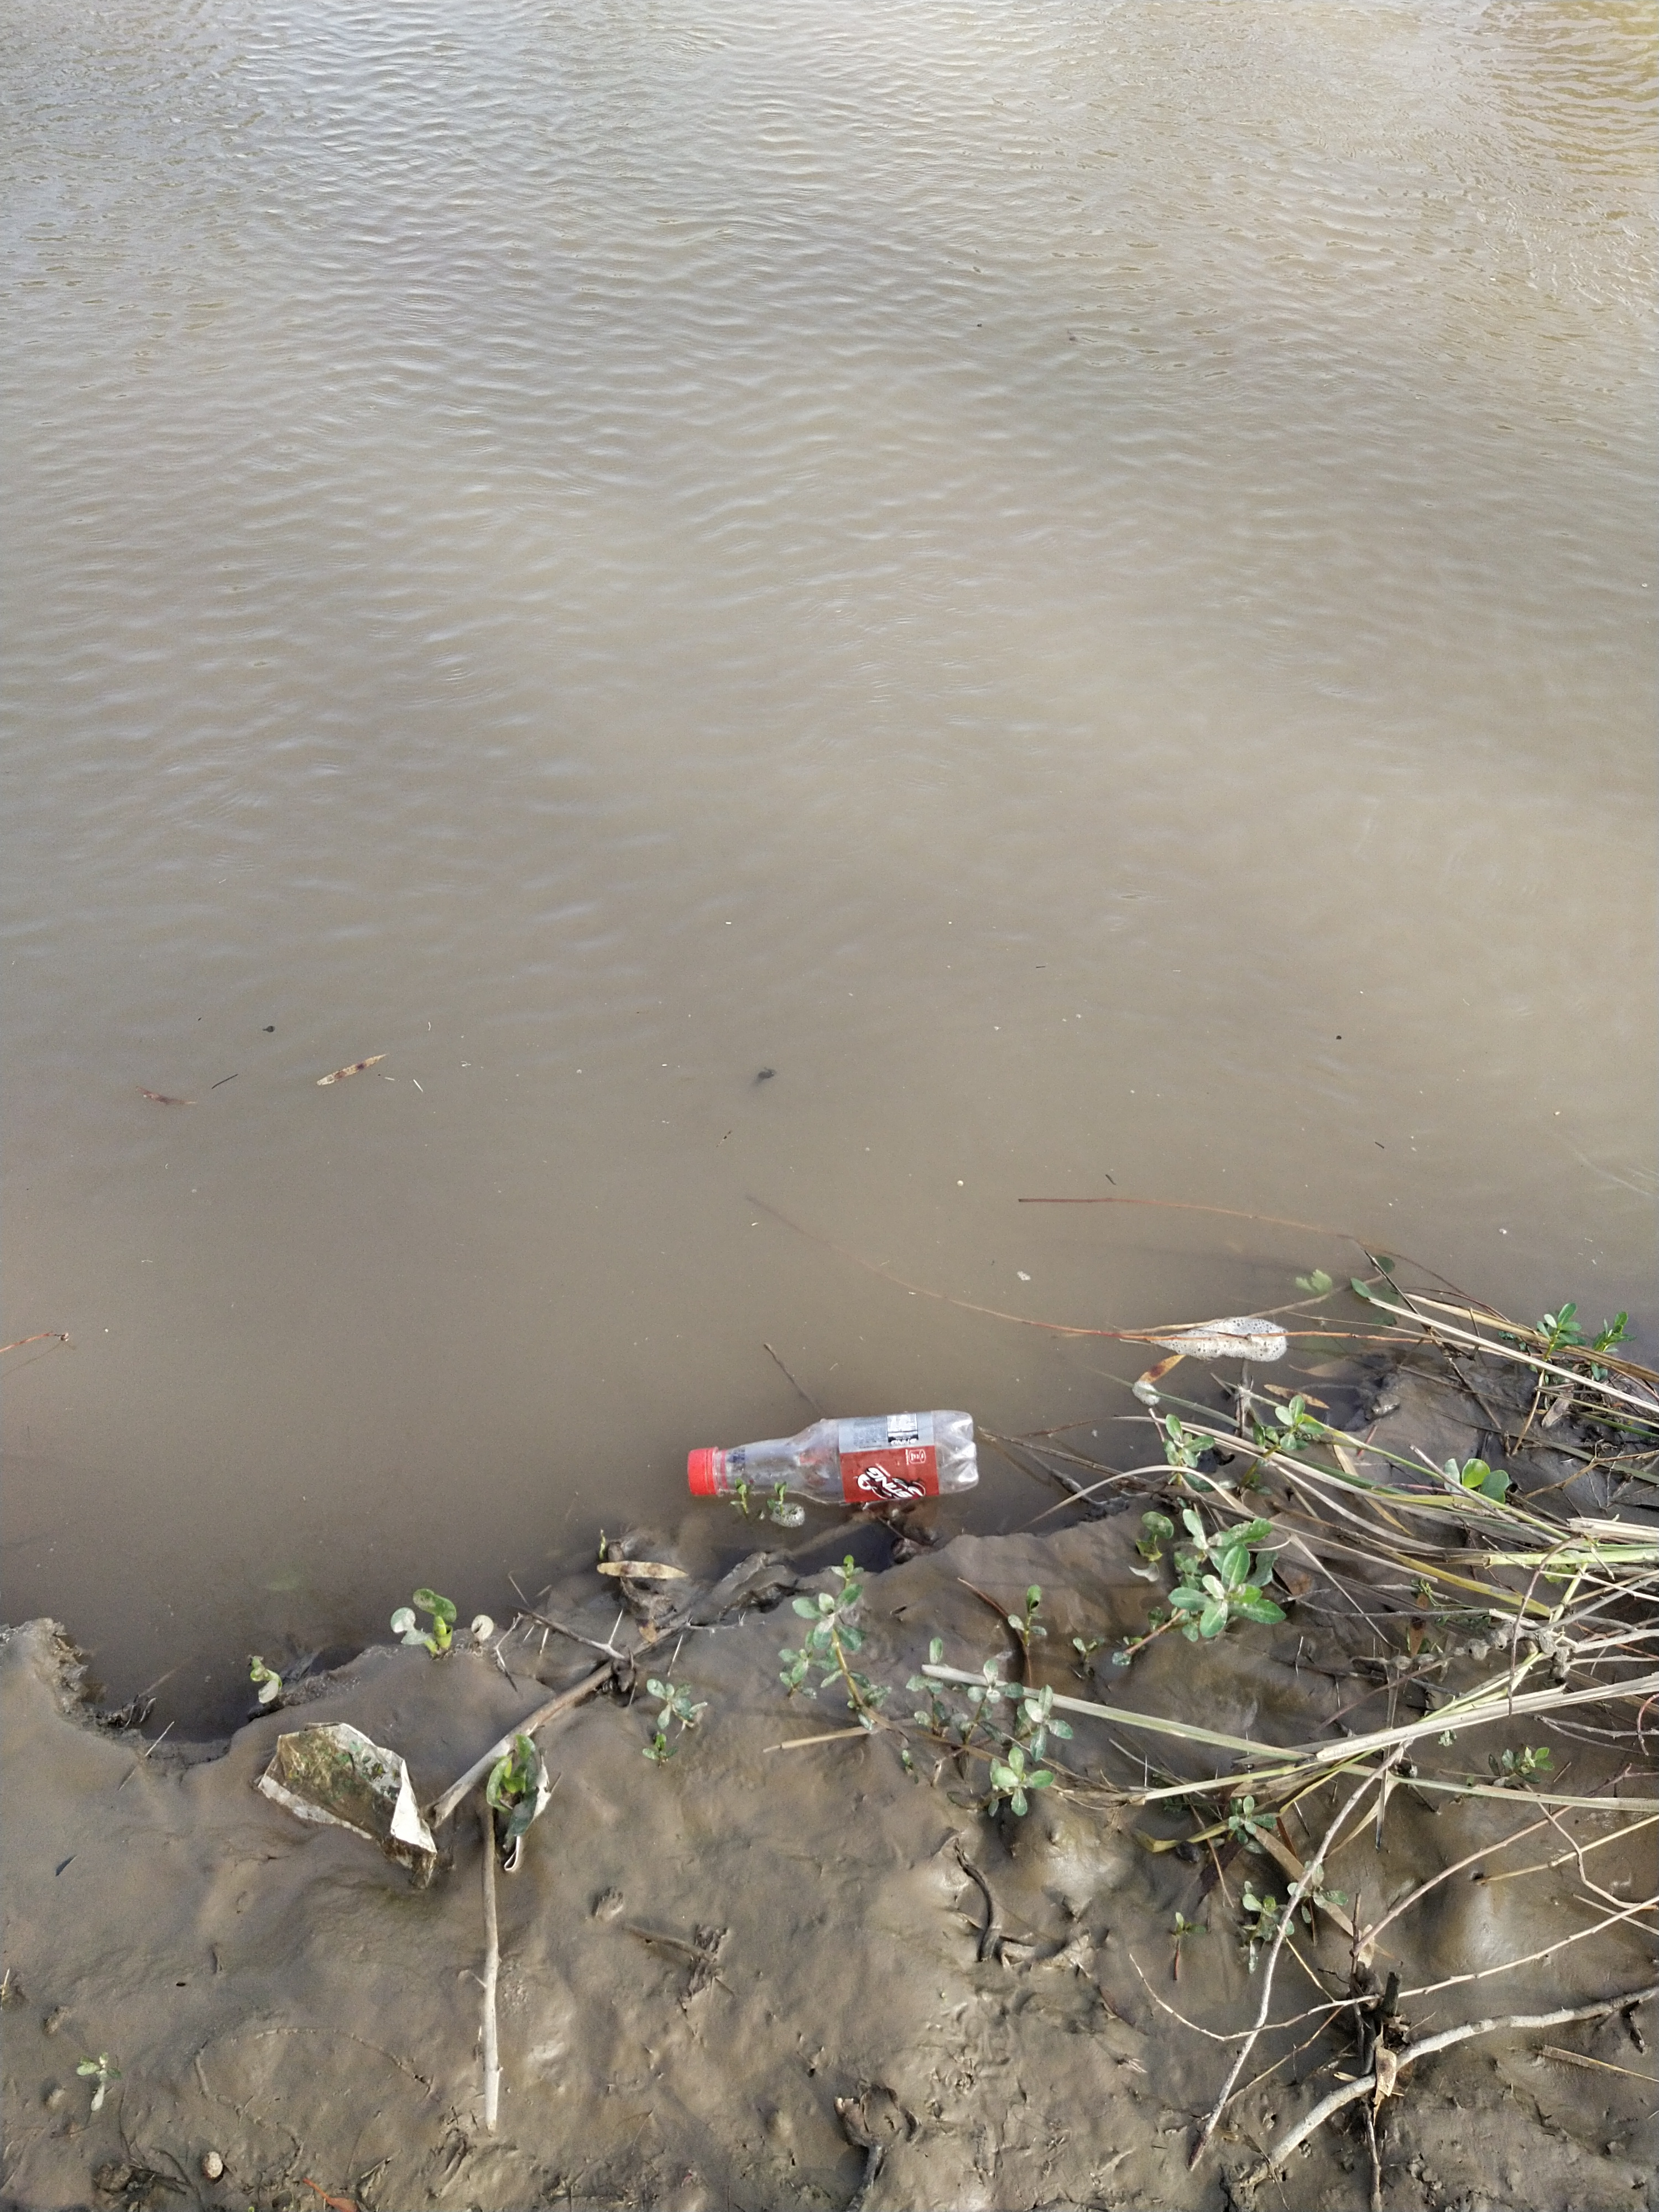Plastic Bottle: (683, 1407, 976, 1505)
